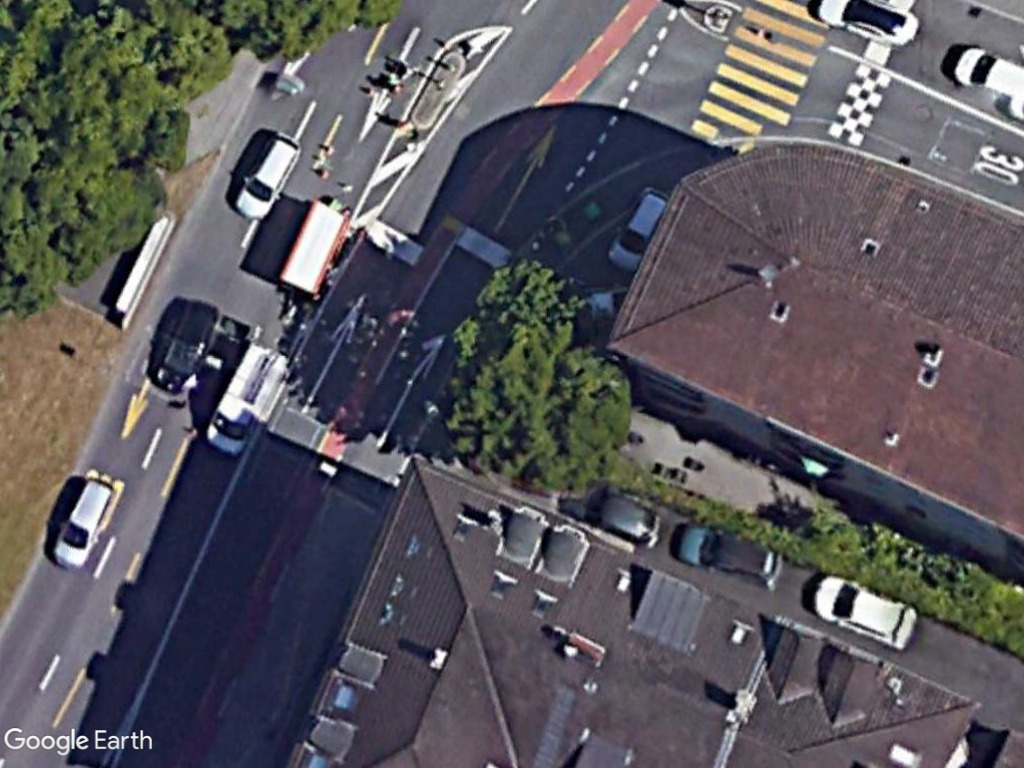car: (811, 571, 920, 650), (674, 521, 786, 587), (230, 130, 304, 222), (49, 472, 117, 571)
van: (202, 343, 291, 460)
